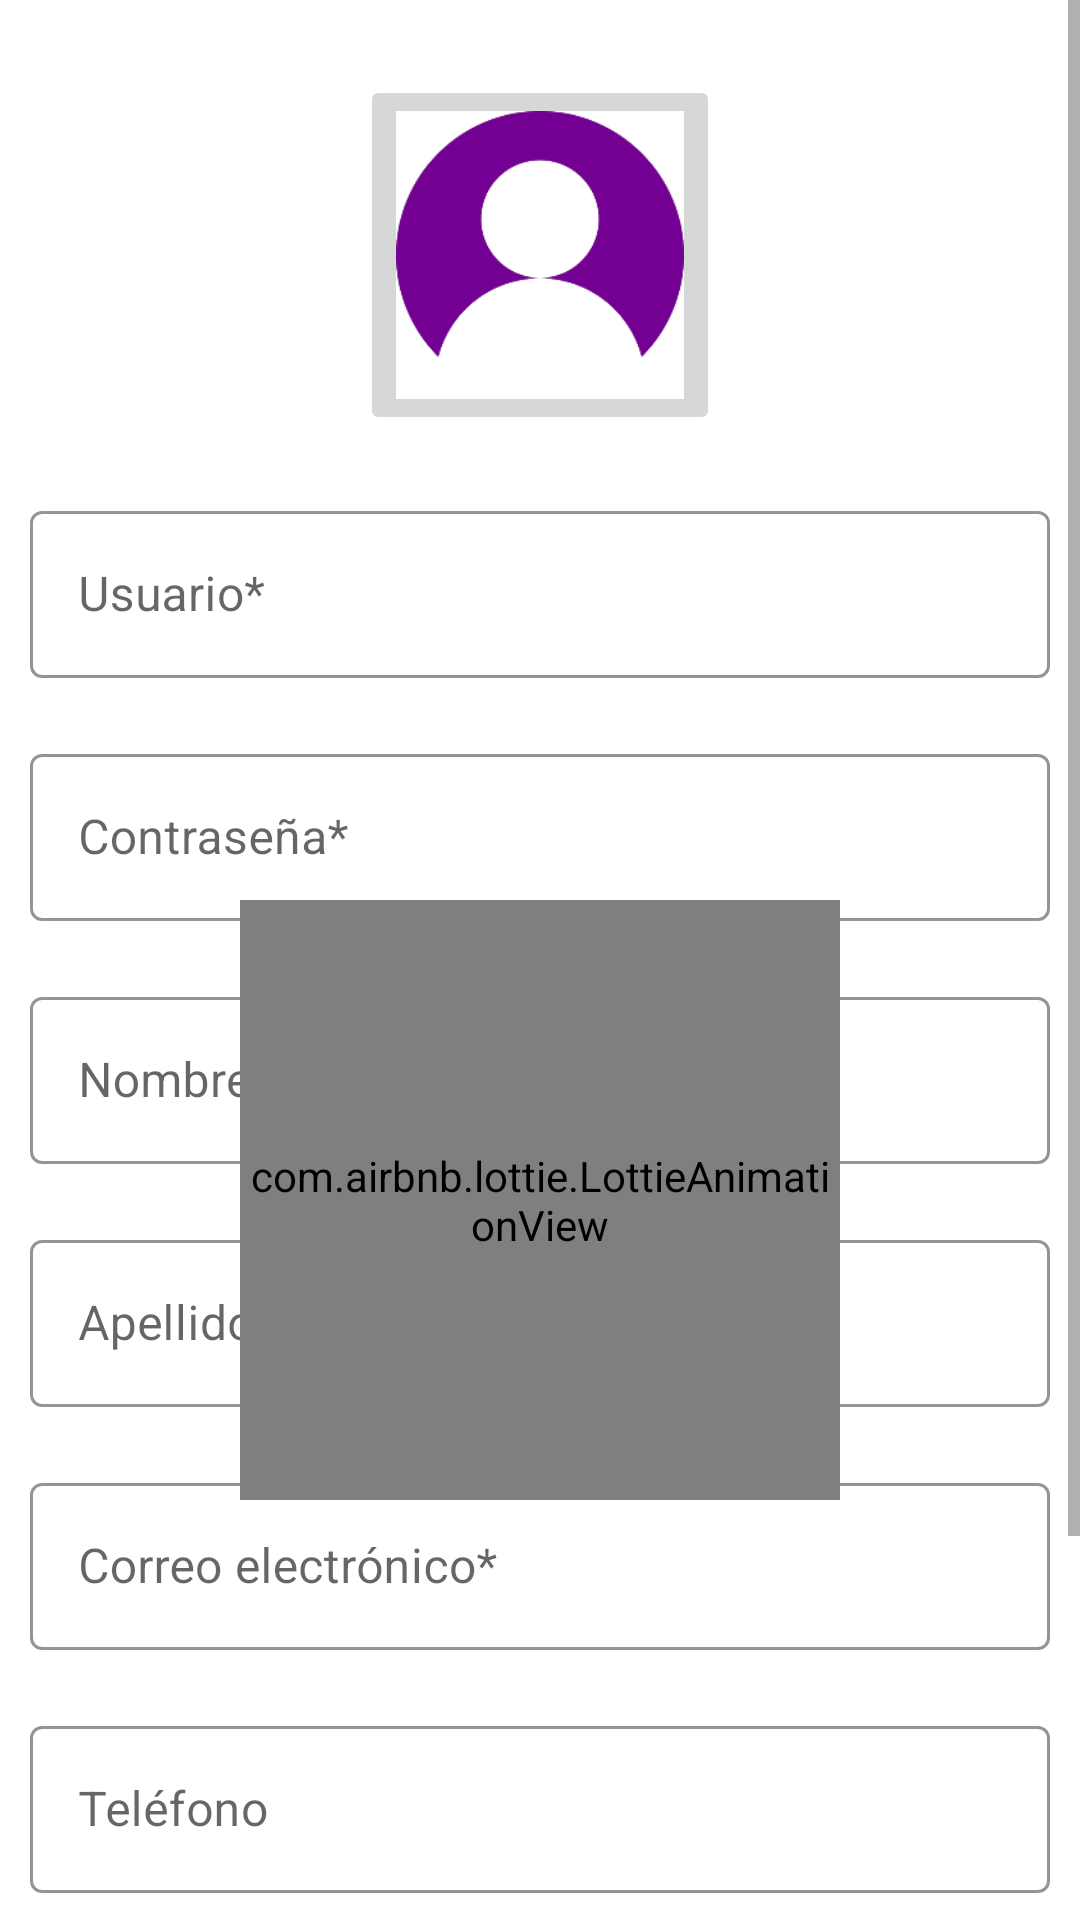

Where icons sit on this 1080px x 1920px app screen, as (x1, y1, x2, y2):
profile: (372, 93, 708, 417)
